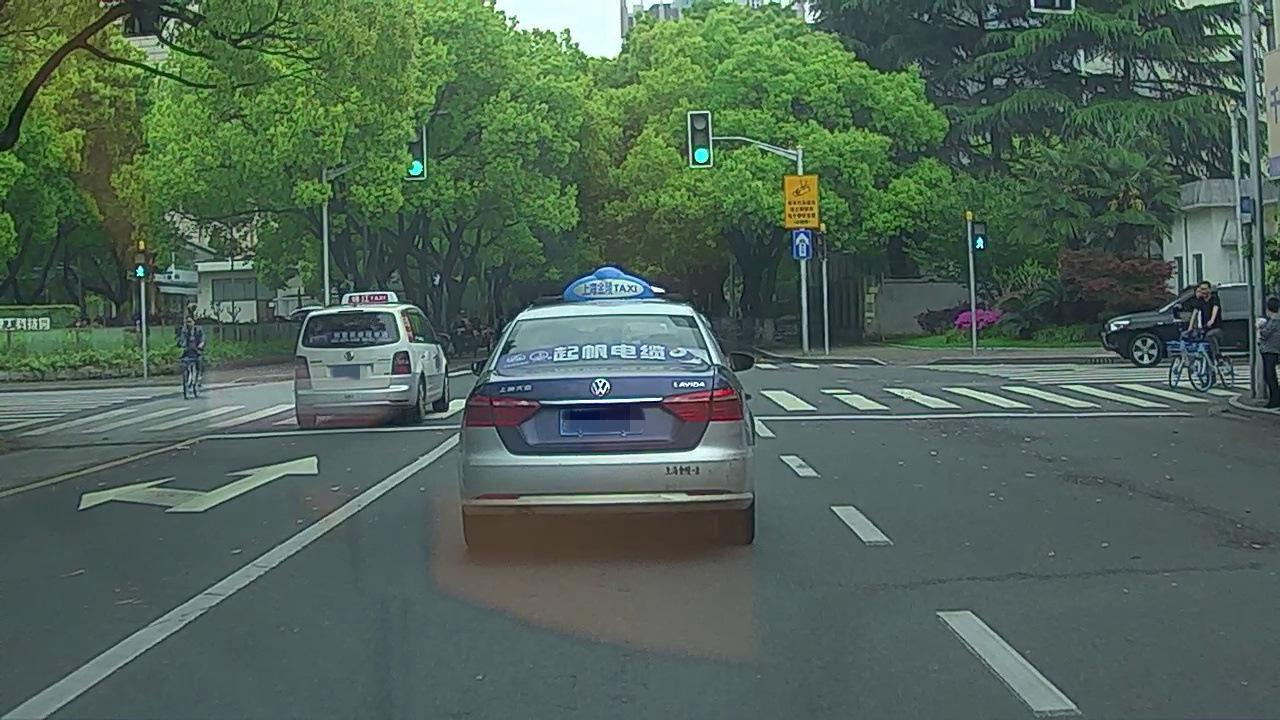traffic_light: (684, 111, 714, 167), (401, 120, 428, 180)
